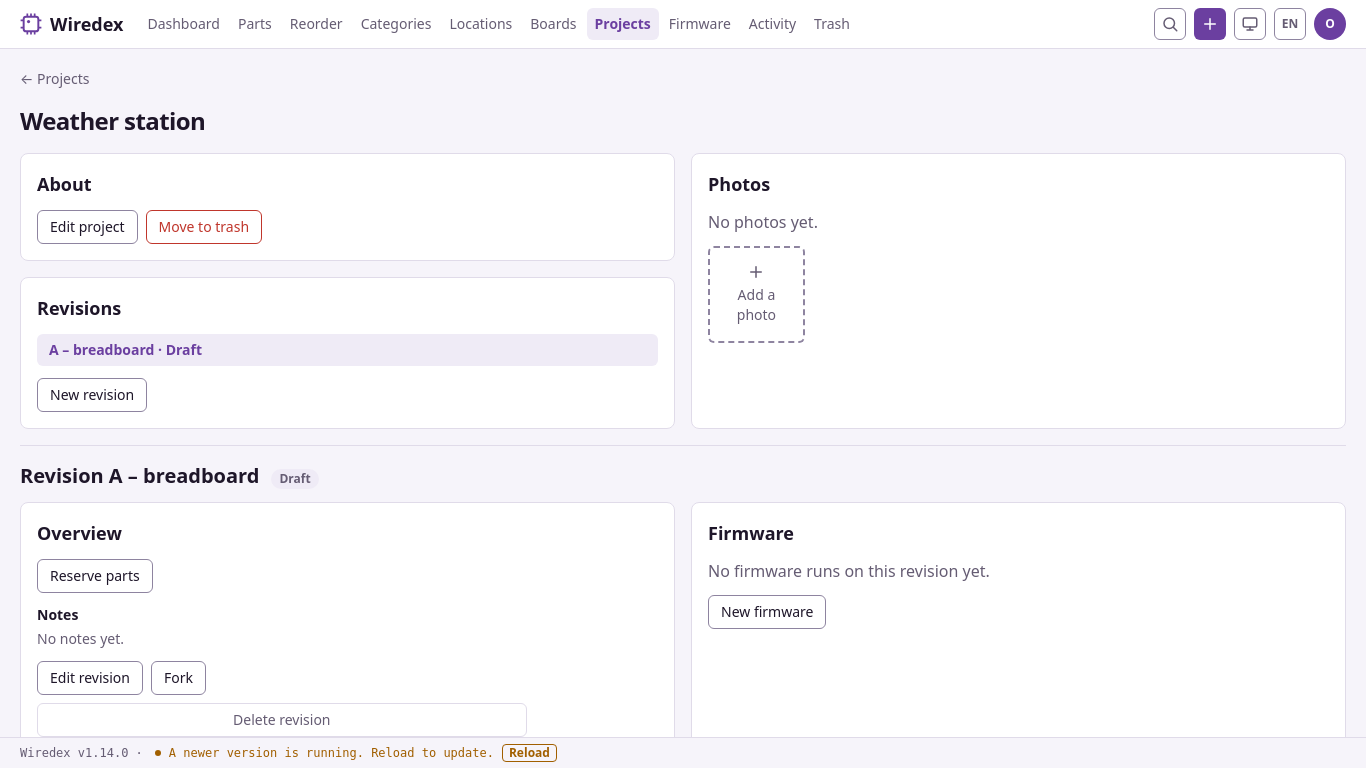
Test: RevisionFirmwareSection › sits after the overview and before the bill of materials, and starts a new firmware running on the revision
Expected: the heading "Firmware" is shown, [708, 519, 794, 547]
Expected: the text "No firmware runs on this revision yet." is shown, [708, 560, 990, 582]
Click the link "New firmware" at point(767, 612), box [708, 595, 826, 629]
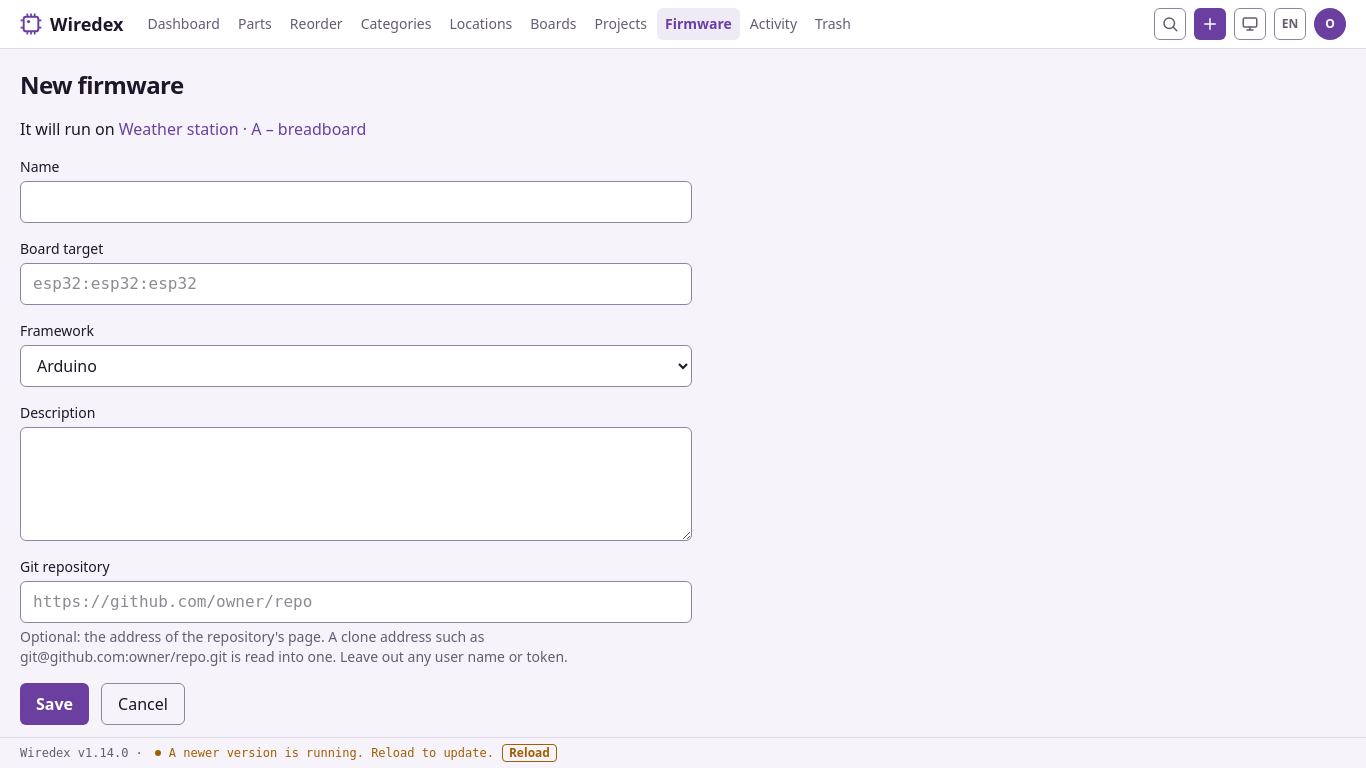
Now the heading "New firmware" is shown, box [20, 68, 184, 101]
Now the link "Weather station · A – breadboard" is shown, box [119, 118, 366, 140]
